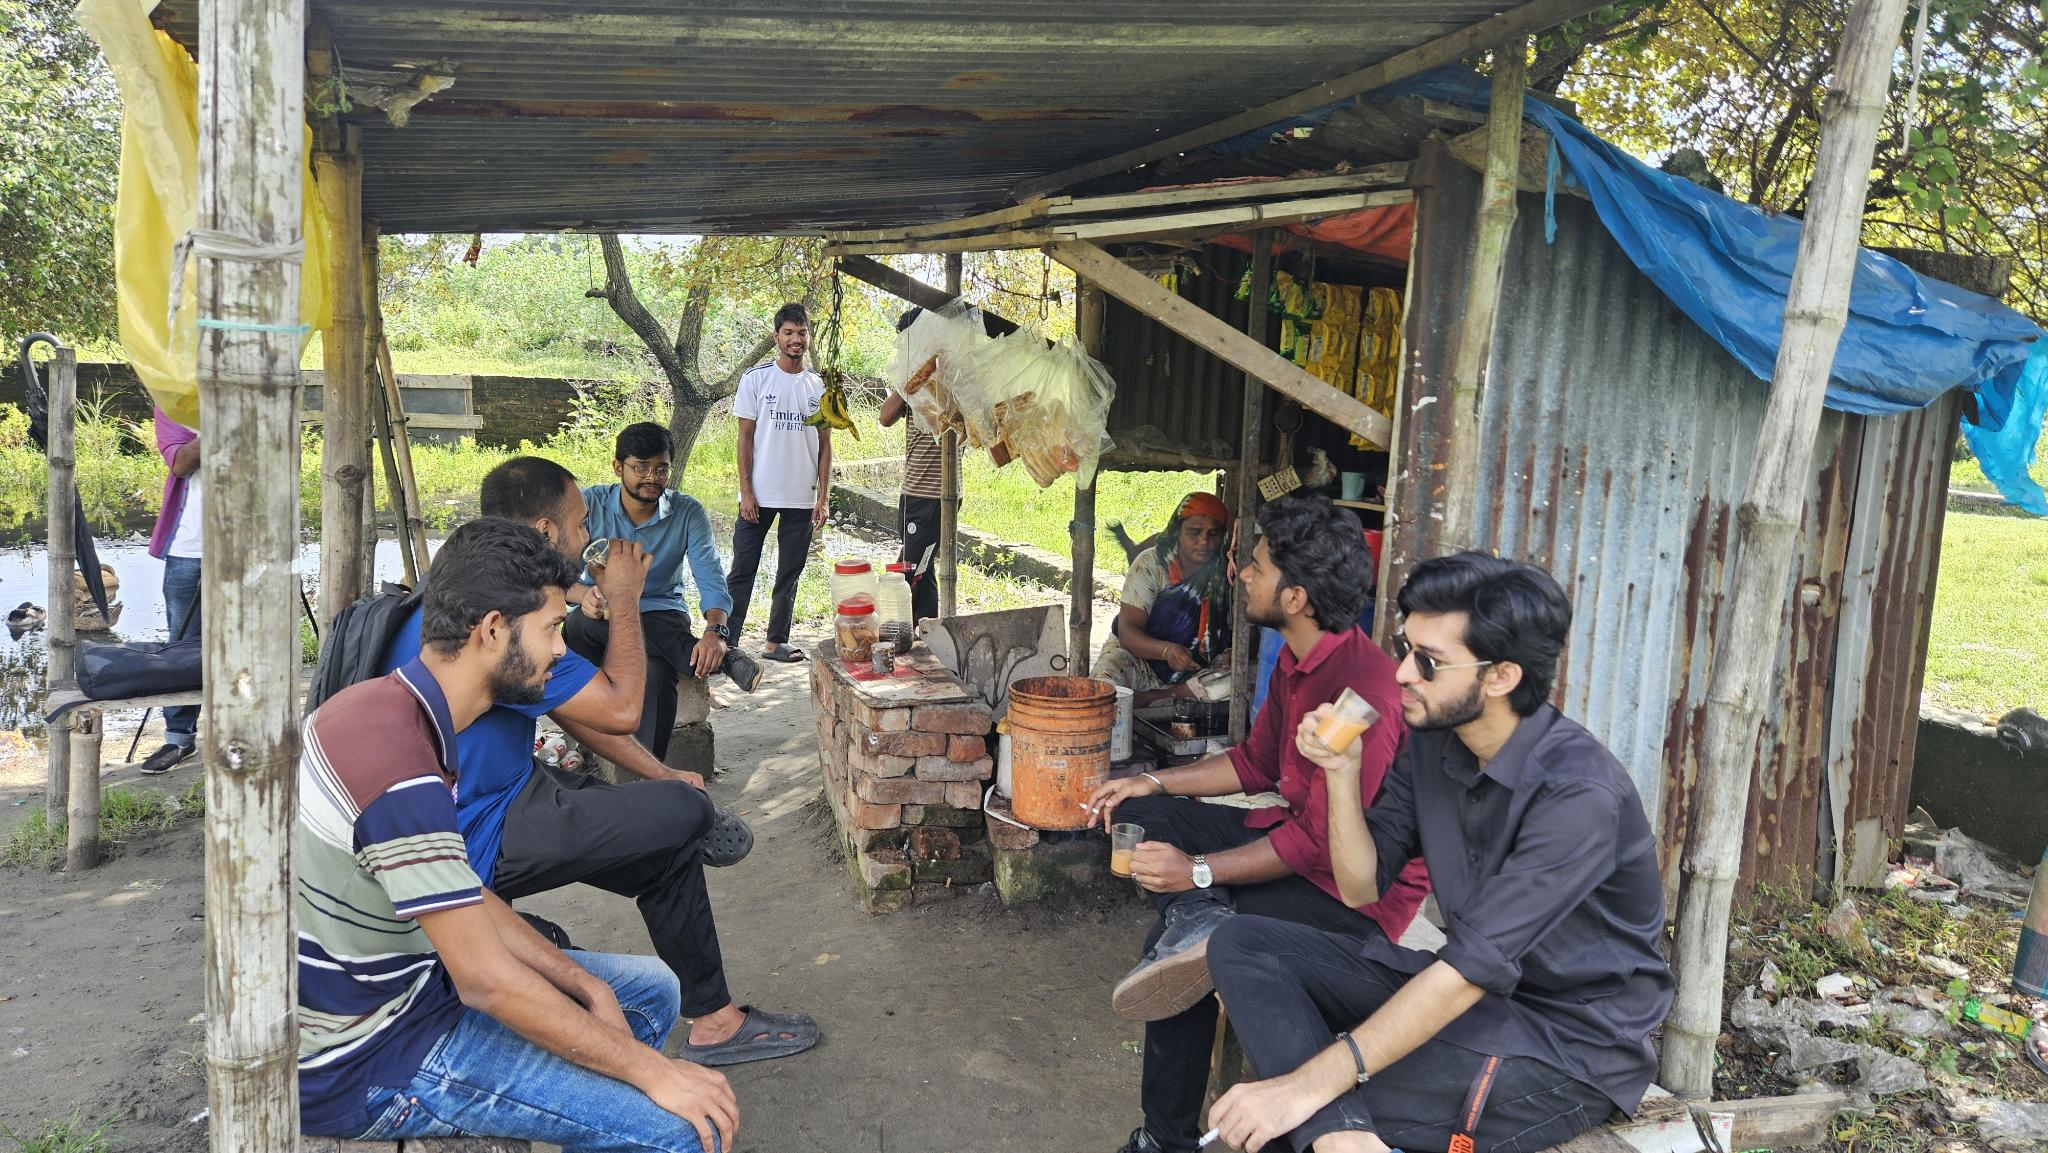cigarette: (1196, 1125, 1222, 1150), (1077, 801, 1101, 817)
nonSmoker: (294, 522, 736, 1153), (459, 454, 821, 1066), (567, 418, 767, 752), (722, 298, 828, 668), (1090, 492, 1236, 709)
smoker: (1186, 548, 1667, 1153), (1083, 494, 1407, 1153)
